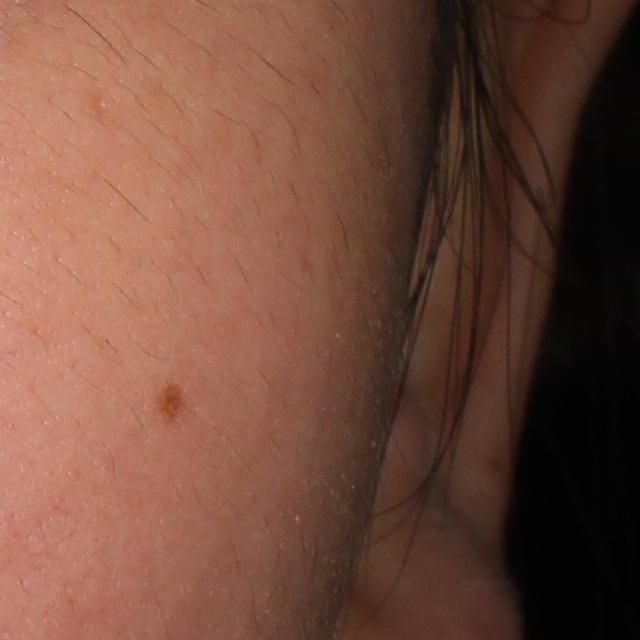nevus: (157, 380, 189, 426)
